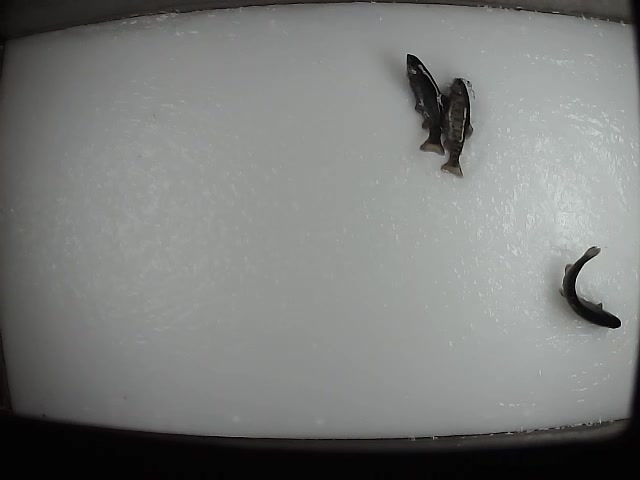Fish: (559, 246, 621, 328), (407, 54, 449, 156), (440, 79, 474, 178)
